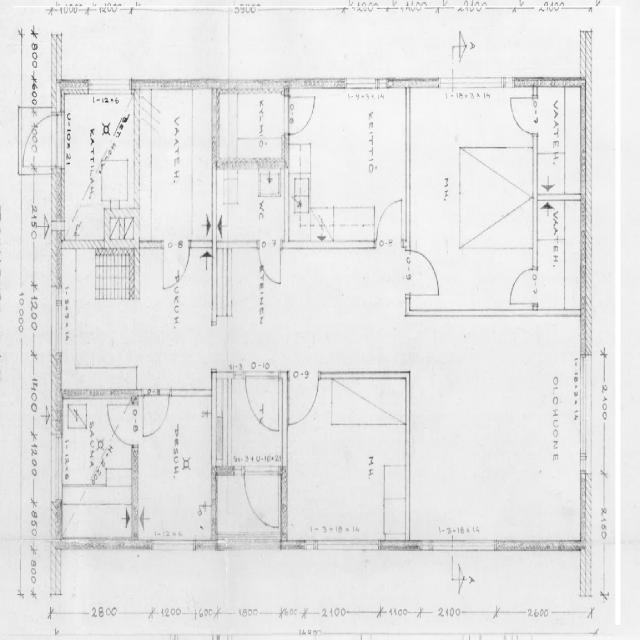door: (217, 85, 288, 168), (243, 468, 282, 530), (24, 110, 62, 170), (405, 244, 443, 300), (286, 373, 320, 428), (374, 194, 408, 248), (284, 88, 318, 138), (140, 392, 171, 441), (506, 263, 539, 309), (160, 243, 190, 293), (507, 93, 540, 138), (106, 399, 136, 447), (258, 242, 284, 288)
window: (577, 352, 595, 474), (311, 534, 370, 556), (50, 280, 66, 358), (450, 75, 505, 95), (150, 535, 196, 556), (344, 74, 381, 96), (88, 76, 130, 95)
zone: (409, 91, 534, 314), (223, 244, 404, 378), (58, 244, 213, 395), (282, 377, 407, 547), (287, 86, 408, 246), (137, 85, 215, 245), (136, 392, 215, 548), (60, 86, 137, 242), (60, 395, 135, 537), (535, 84, 585, 199), (535, 198, 584, 313), (218, 87, 286, 166), (215, 161, 276, 244), (243, 468, 282, 531), (244, 373, 283, 433), (105, 398, 138, 449)
